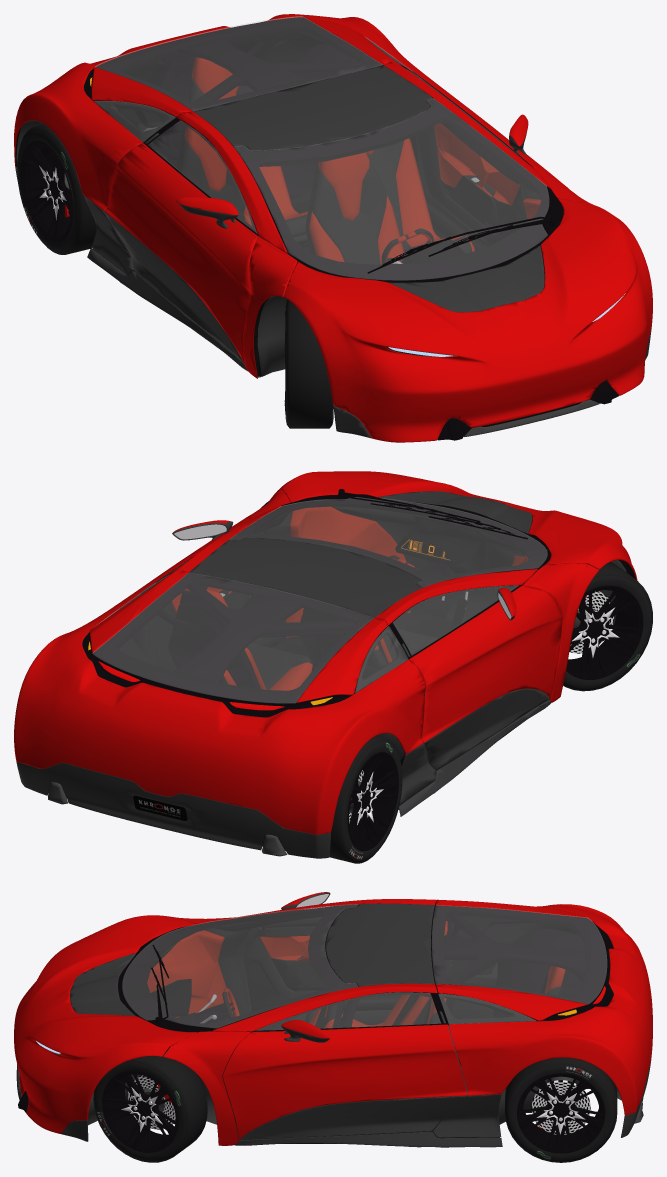
Rendered from car.glb.
The picture shows the model from 3 angles, top to bottom: view 1: azimuth 30°, elevation 25°; view 2: azimuth 150°, elevation 25°; view 3: azimuth 270°, elevation 25°; orthographic projection. The views are drawn at different scales.
Parts seen in each view (by area): view 1: BodyRearPanelsColor1, BodyWindshield, BodyWindshieldGasket, BodyRoofPanel, InteriorDashSides, InteriorDashMid, InteriorSeatsColor2, object 21, WheelFrontLRim, BodyUnderside, InteriorMid, InteriorSteeringDash; view 2: BodyRearPanelsColor1, BodyWindshield, BodyRoofPanel, BodyWindshieldGasket, InteriorDashMid, WheelFrontLRim, object 21, InteriorDashSides, InteriorSeatsColor2, InteriorFloormats, InteriorSteeringDash, BodyUnderside (+3 smaller); view 3: BodyRearPanelsColor1, BodyWindshield, BodyRoofPanel, BodyWindshieldGasket, object 21, WheelFrontLRim, InteriorDashMid, InteriorDashSides, InteriorMid, WheelFrontLBrakeDisc, BodyUnderside, InteriorSeatsColor2 (+1 smaller).
Part boxes in pixels (box(x1,y1,x2,y2)): BodyRearPanelsColor1: box(14, 14, 652, 442); BodyWindshield: box(94, 16, 549, 280); BodyWindshieldGasket: box(16, 17, 618, 440); BodyRoofPanel: box(15, 65, 651, 438); InteriorDashSides: box(185, 57, 540, 349); InteriorDashMid: box(15, 33, 526, 281); InteriorSeatsColor2: box(180, 78, 472, 264); object 21: box(17, 124, 333, 428); WheelFrontLRim: box(20, 140, 285, 414); BodyUnderside: box(16, 78, 526, 430); InteriorMid: box(93, 173, 557, 376); InteriorSteeringDash: box(404, 239, 465, 263); BodyRearPanelsColor1: box(14, 471, 637, 834); BodyWindshield: box(92, 497, 547, 703); BodyRoofPanel: box(16, 491, 550, 858); BodyWindshieldGasket: box(82, 489, 635, 753); InteriorDashMid: box(48, 502, 528, 850); WheelFrontLRim: box(347, 585, 643, 851); object 21: box(260, 501, 652, 863); InteriorDashSides: box(171, 506, 528, 690); InteriorSeatsColor2: box(246, 628, 437, 689); InteriorFloormats: box(269, 598, 467, 659); InteriorSteeringDash: box(395, 533, 462, 566); BodyUnderside: box(48, 560, 626, 856); BodyRearPanelsColor1: box(14, 892, 652, 1145); BodyWindshield: box(122, 904, 606, 1030); BodyRoofPanel: box(16, 892, 651, 1147); BodyWindshieldGasket: box(18, 901, 613, 1143); object 21: box(93, 1054, 617, 1162); WheelFrontLRim: box(102, 1070, 605, 1153); InteriorDashMid: box(118, 908, 613, 1030); InteriorDashSides: box(147, 921, 565, 1028); InteriorMid: box(205, 922, 499, 1143); WheelFrontLBrakeDisc: box(127, 1075, 590, 1134); BodyUnderside: box(39, 927, 643, 1125); InteriorSeatsColor2: box(304, 973, 560, 1028).
Bounding box in the file's own units: 2.54 × 1.15 × 4.36.
23 materials, 6 textured.
